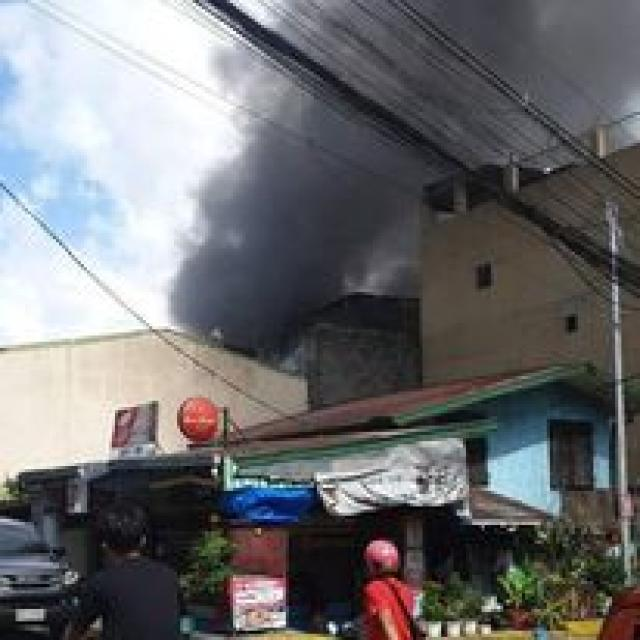Smoke: (222, 66, 412, 284), (273, 0, 640, 112), (190, 196, 310, 328)
